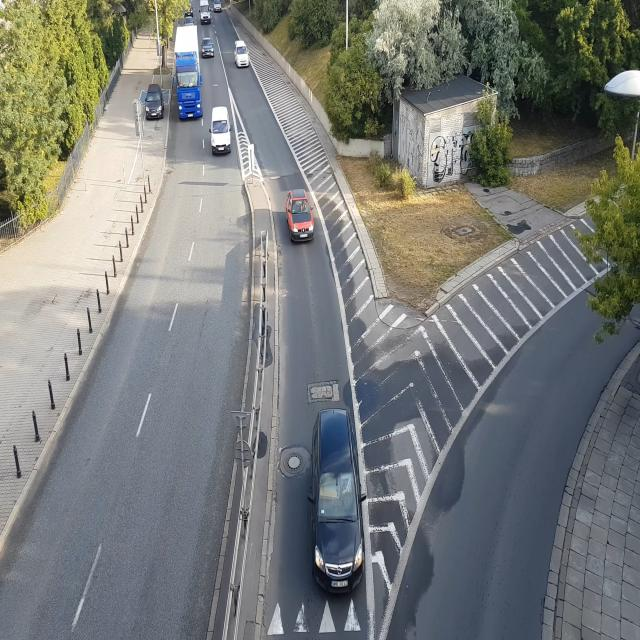car: (309, 400, 369, 598), (283, 183, 320, 245), (208, 106, 234, 158), (143, 84, 165, 123), (233, 37, 253, 72), (201, 39, 216, 59), (199, 0, 210, 25), (212, 0, 225, 11)
truck: (172, 21, 205, 124)
